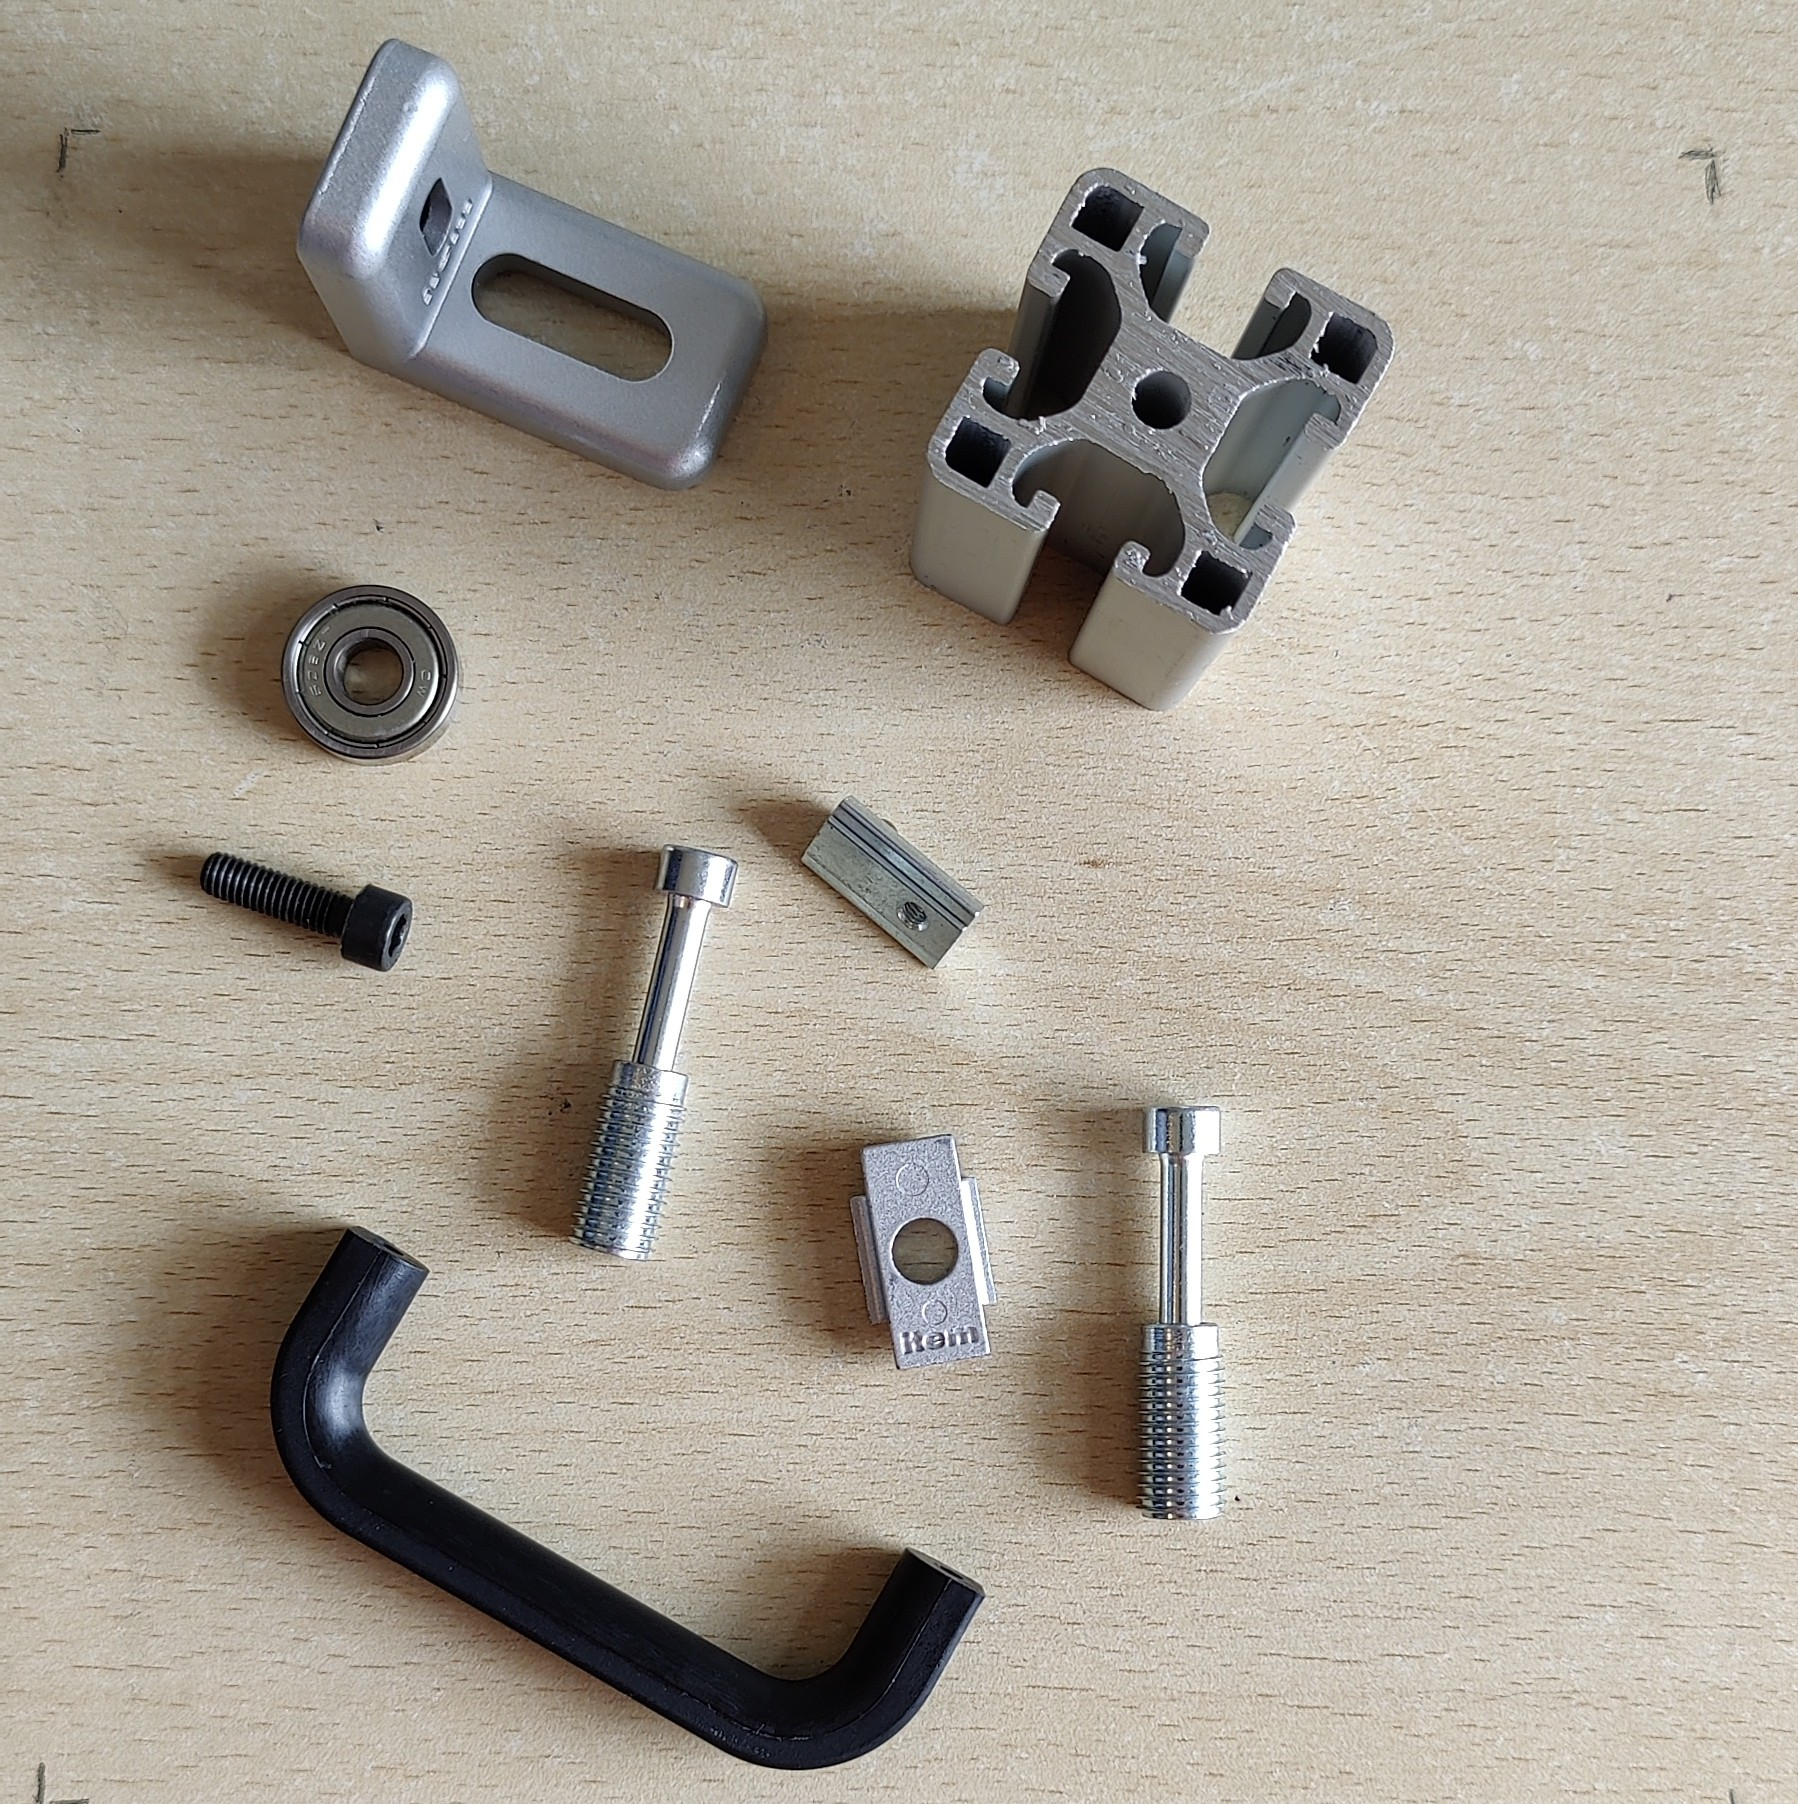Aluminium Extension: (902, 165, 1396, 714)
Ball Bearing: (280, 583, 466, 769)
Multiwinkel: (293, 36, 769, 494)
Pull Handle: (267, 1221, 986, 1773)
Shoulder Socket Head Cap Screw: (565, 843, 743, 1264), (1130, 1100, 1232, 1524)
Socket Head Cap Screw: (194, 844, 413, 974)
T Nut Square: (845, 1129, 1003, 1374)
T Spring Nut: (795, 793, 991, 973)
